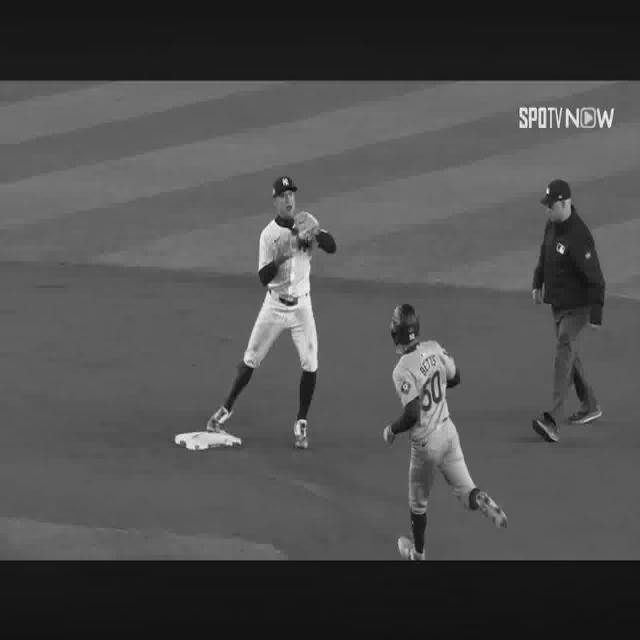base: (175, 432, 241, 450)
baseball_glove: (294, 212, 319, 245)
shoe: (469, 488, 508, 528), (532, 413, 560, 442), (568, 402, 602, 425), (206, 405, 232, 432), (398, 538, 425, 562), (295, 418, 309, 448)
